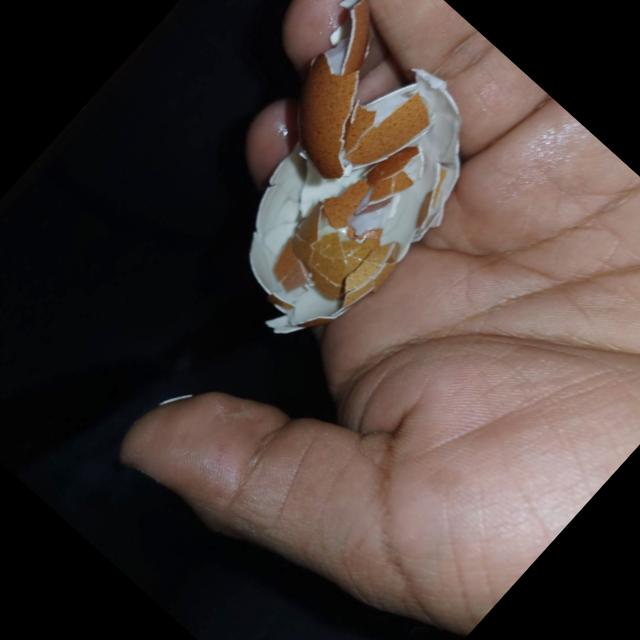organic: (153, 1, 512, 366)
